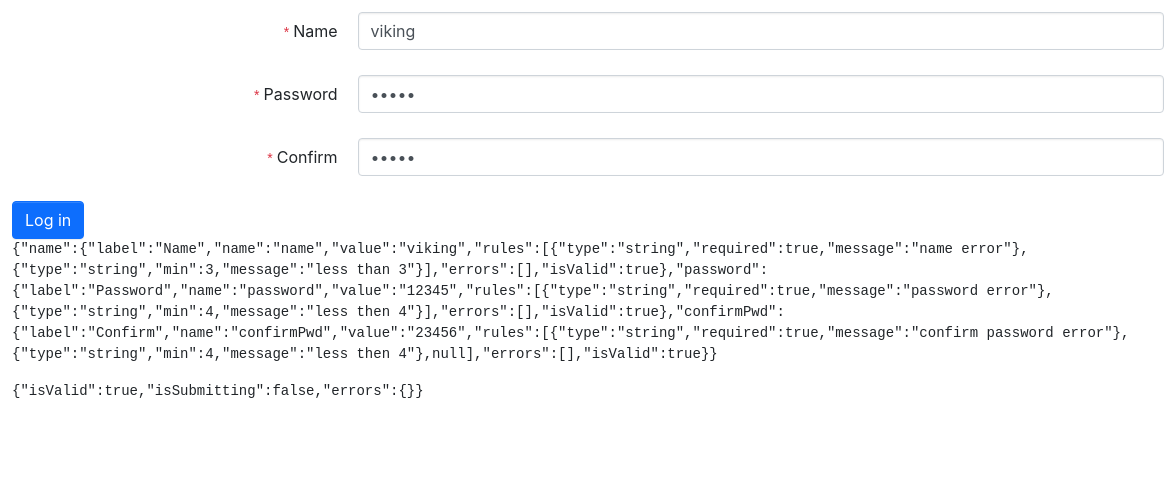
Test: testing Form component › submit form with invliad values should show the error message
Clear the field showing "viking" at (761, 31), box [358,12,1164,50]
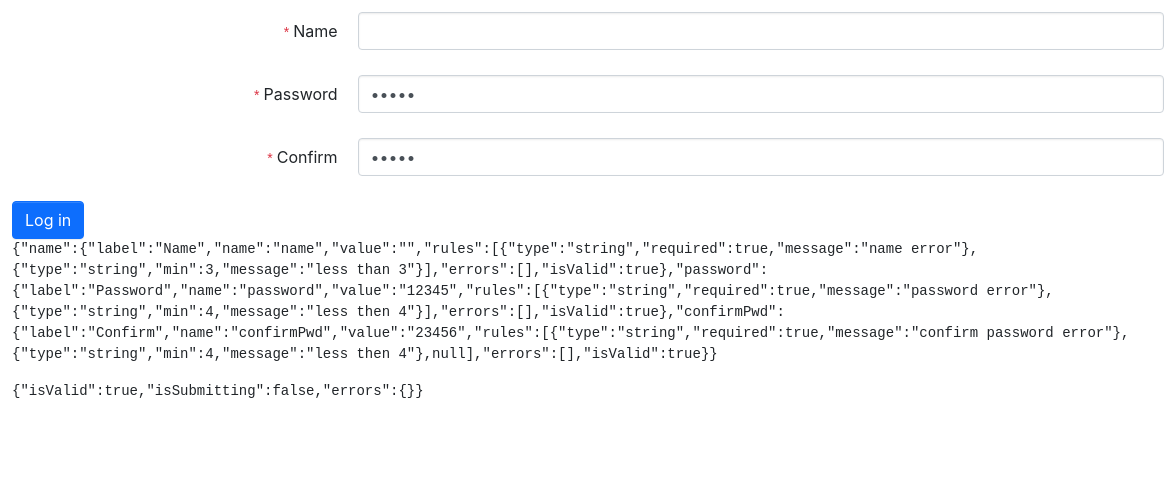
Clear the 1st password field showing "12345" at (761, 94), box [358,75,1164,113]
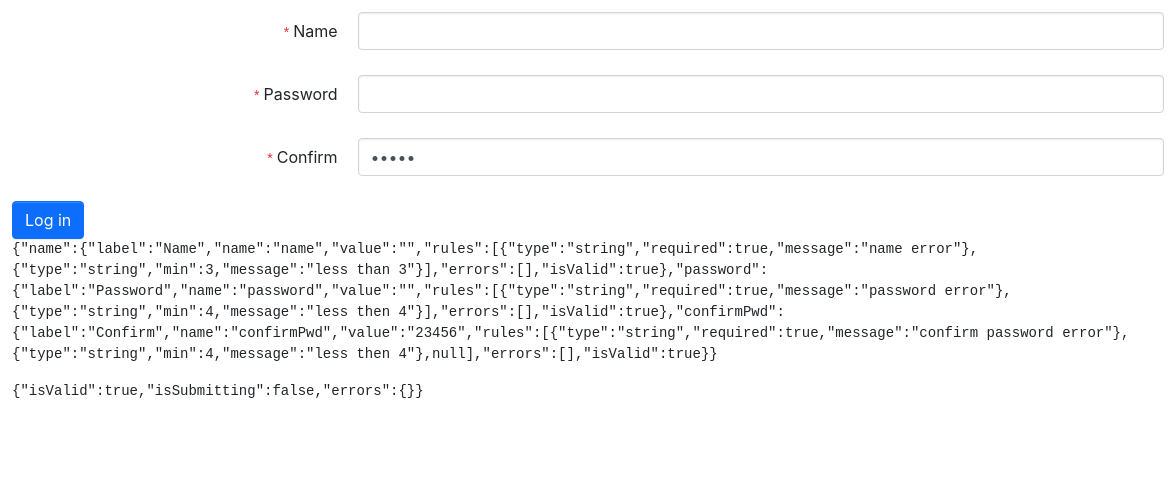
Click the button "Log in" at (48, 220), box [12,201,84,239]
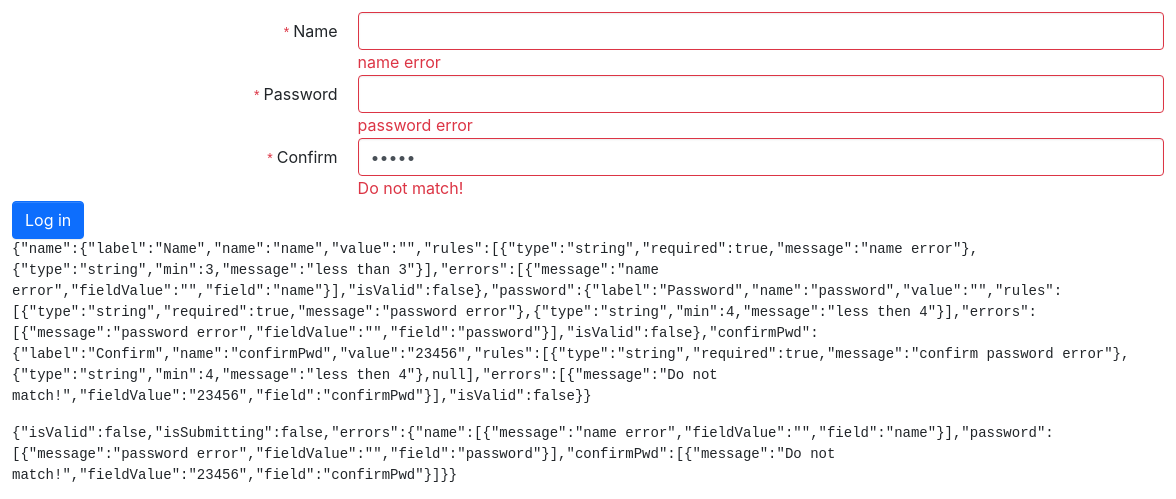
Expected: the text "name error" is shown, [358,52,441,72]
Expected: the text "password error" is shown, [358,115,473,135]
